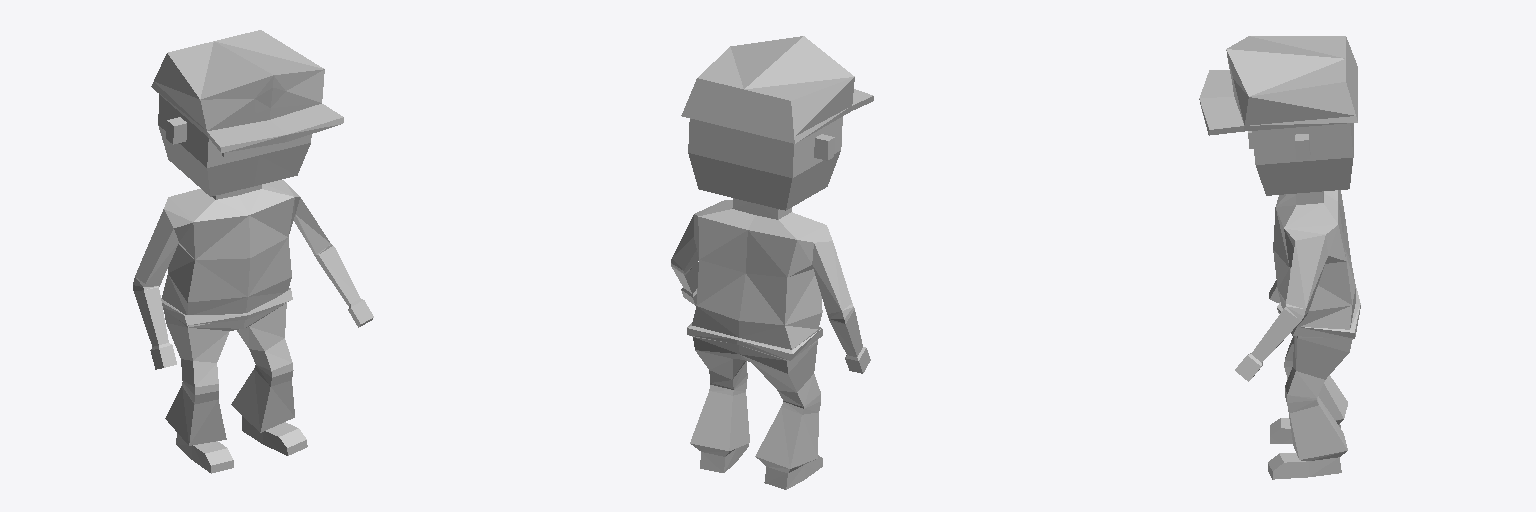
The model's file is Character-3.obj.
The picture shows the model from 3 angles: view 1: azimuth 30°, elevation 25°; view 2: azimuth 150°, elevation 25°; view 3: azimuth 270°, elevation 25°; orthographic projection.
Parts seen in each view (by area): view 1: Police_Cube, Police_Hat_Cube.001; view 2: Police_Cube, Police_Hat_Cube.001; view 3: Police_Cube, Police_Hat_Cube.001.
Part boxes in pixels (bbox=[...]): Police_Cube: bbox=[133, 94, 373, 473]; Police_Hat_Cube.001: bbox=[151, 30, 343, 152]; Police_Cube: bbox=[671, 117, 870, 489]; Police_Hat_Cube.001: bbox=[681, 36, 873, 143]; Police_Cube: bbox=[1235, 123, 1360, 479]; Police_Hat_Cube.001: bbox=[1199, 36, 1357, 135].
Bounding box in the file's own units: 1.67 × 3.24 × 1.17.